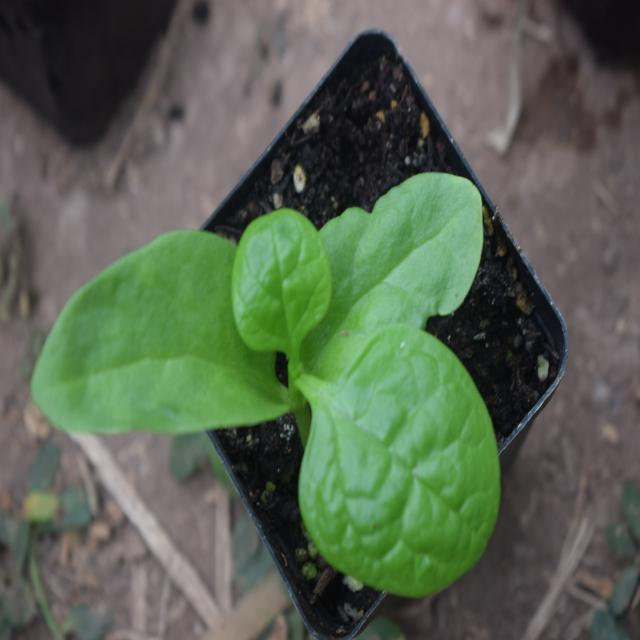Ceylon spinach: (32, 170, 494, 569)
